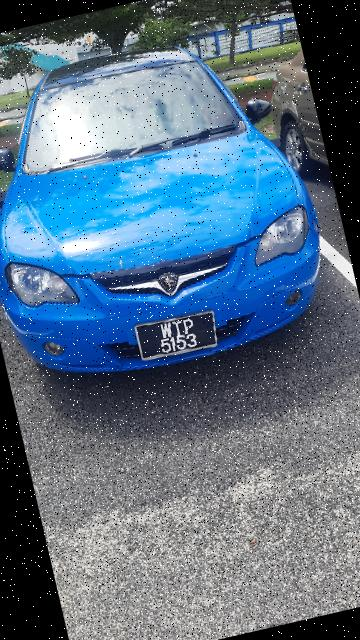License_Plate: (128, 307, 223, 367)
car: (1, 1, 340, 402)
